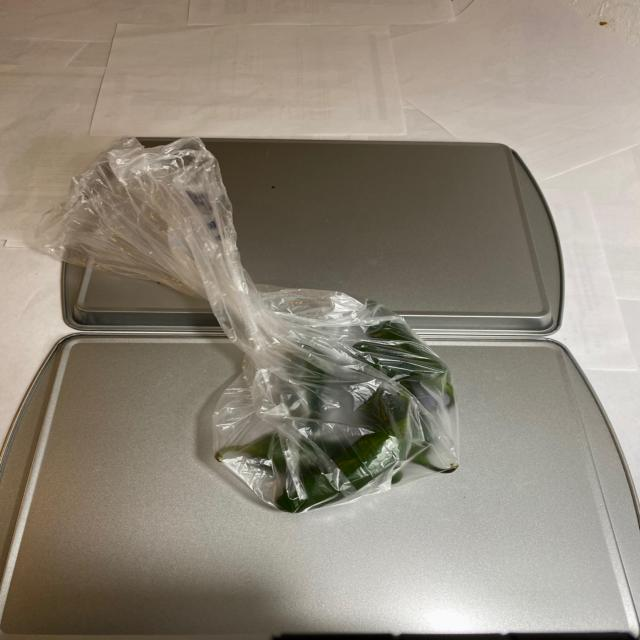chilli: (209, 308, 462, 512)
